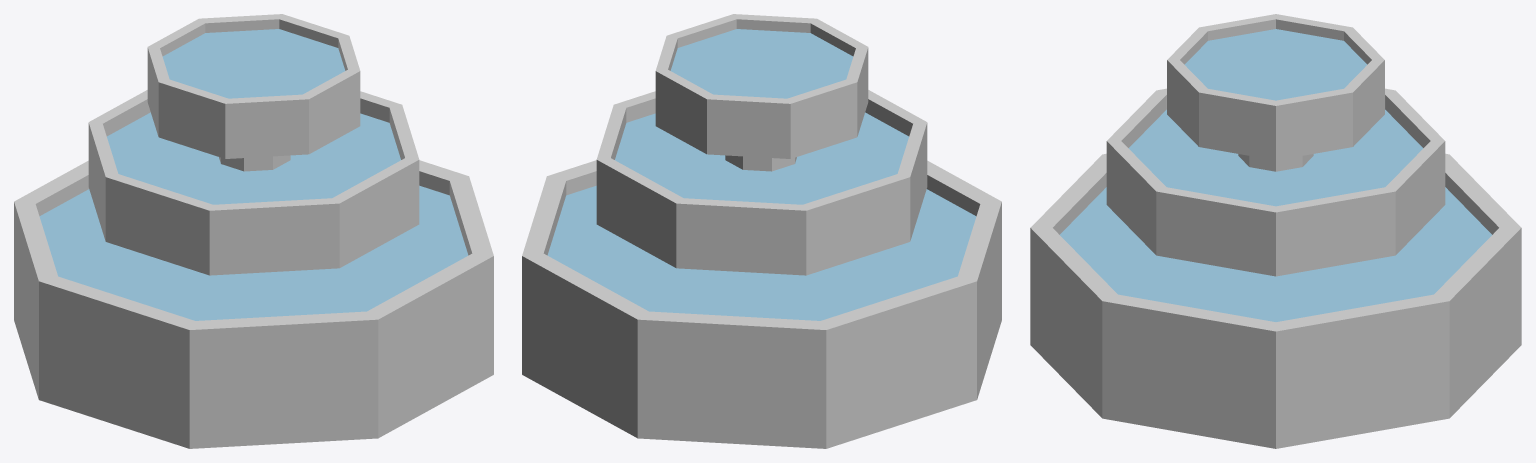
The model's file is fiskiye.fbx.
3 views of the same model, side by side, from view 1: azimuth 30°, elevation 25°; view 2: azimuth 150°, elevation 25°; view 3: azimuth 270°, elevation 25° (orthographic).
Visible parts, largest first — view 1: Cylinder.002; view 2: Cylinder.002; view 3: Cylinder.002.
Boxes of the visible parts, box(x1,y1,x2,y2) form: Cylinder.002: box(14, 14, 493, 448); Cylinder.002: box(522, 14, 1001, 448); Cylinder.002: box(1030, 14, 1521, 448).
Size of the model in its own units: 289 by 185 by 289.
